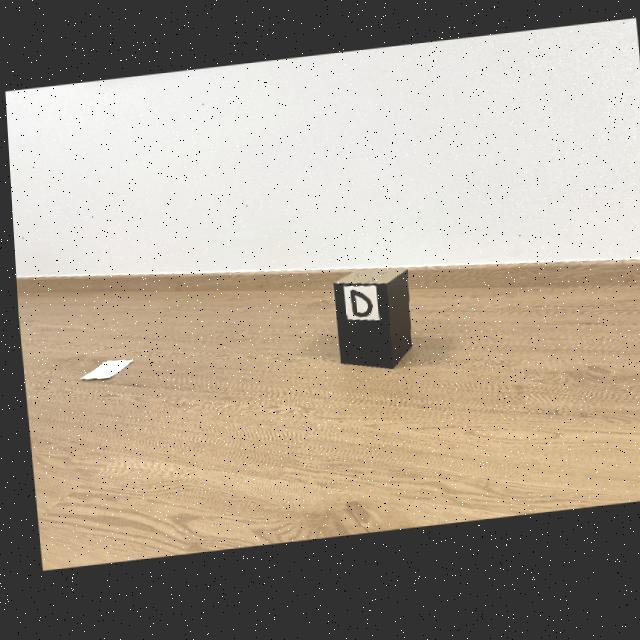A: (4, 29, 640, 277)
